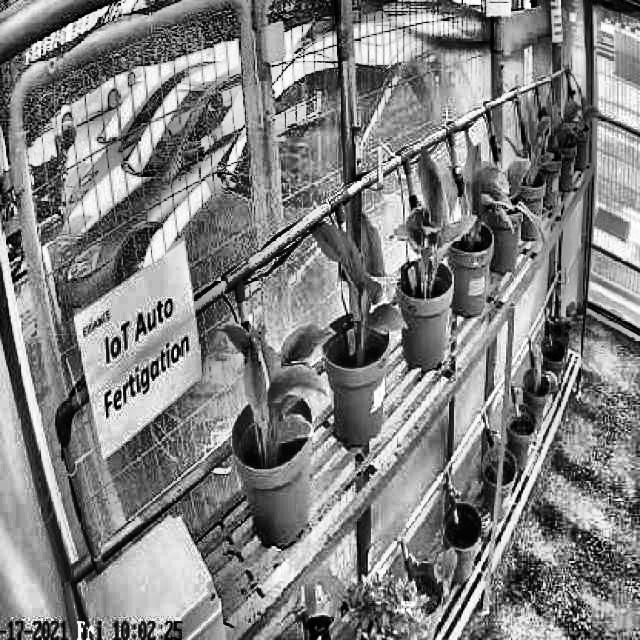plants: (220, 316, 338, 464), (306, 210, 408, 364), (390, 152, 478, 300), (438, 152, 514, 254)
